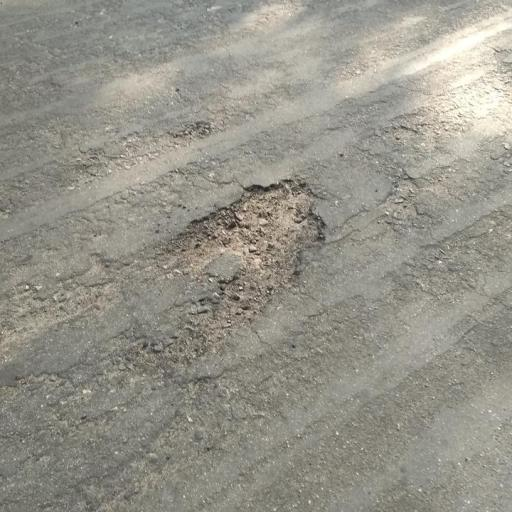pothole: (158, 174, 331, 347)
